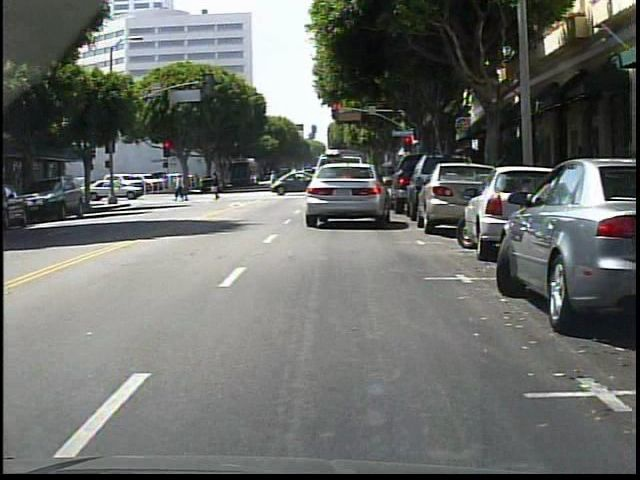person: (210, 172, 224, 201), (174, 174, 189, 201), (271, 171, 279, 191)
